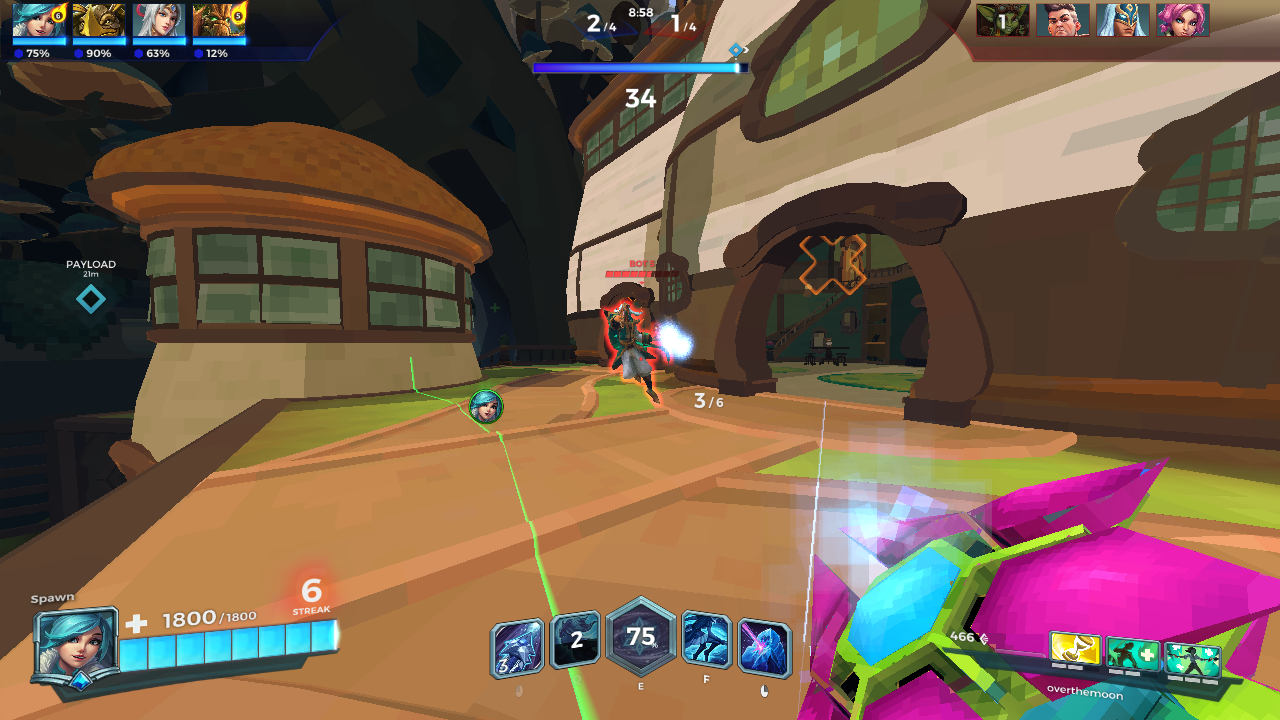model: (603, 292, 659, 413)
